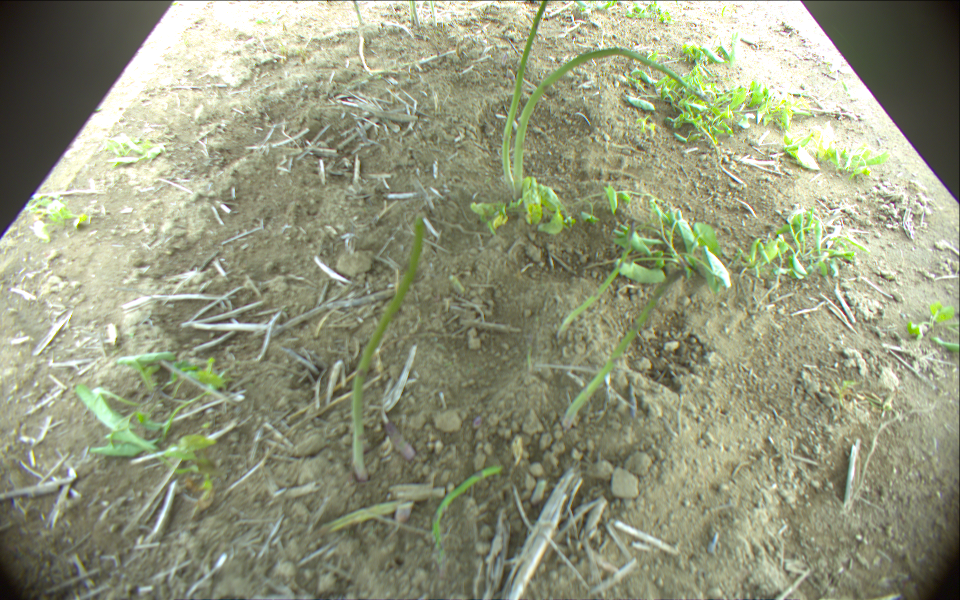aspa: (513, 48, 710, 203), (562, 264, 687, 429), (352, 216, 426, 484), (555, 216, 636, 339), (500, 1, 549, 192), (433, 463, 501, 546), (351, 1, 364, 26), (410, 1, 420, 29), (429, 1, 438, 26)
